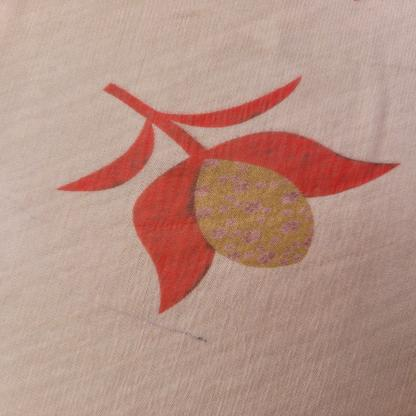spot: (108, 305, 212, 346), (177, 256, 218, 304), (183, 159, 207, 225), (180, 127, 205, 149), (297, 152, 314, 171), (256, 145, 277, 159), (104, 180, 126, 189), (205, 239, 219, 253), (247, 107, 261, 121), (138, 156, 154, 164)
